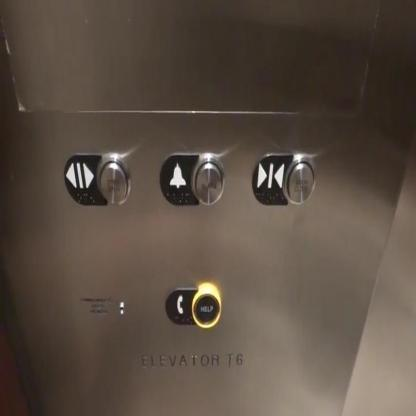alarm: (158, 149, 226, 205)
call: (164, 278, 220, 334)
close: (251, 149, 317, 205)
open: (63, 149, 133, 208)
